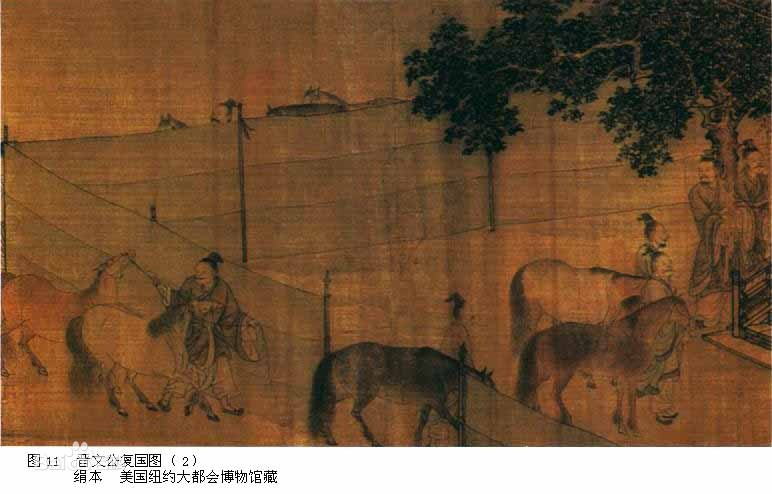horse: (505, 291, 713, 438), (66, 291, 237, 429), (307, 339, 506, 449), (499, 256, 688, 366), (3, 243, 143, 387), (305, 88, 415, 115), (265, 100, 349, 123), (153, 113, 190, 138)
man: (147, 255, 271, 423), (686, 151, 740, 311), (736, 137, 772, 277), (634, 208, 675, 291), (440, 286, 480, 366), (642, 241, 675, 297), (208, 96, 235, 130)
tree: (406, 20, 750, 141)
wall: (3, 134, 335, 424)
